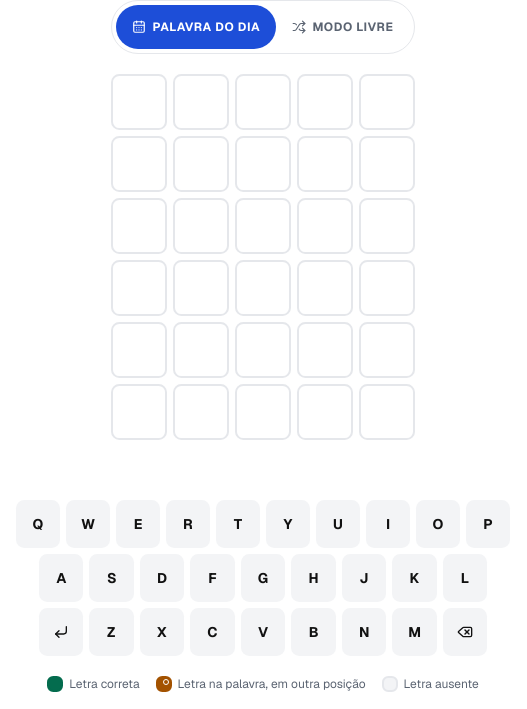
Test: TermoGame › rejects a guess that is not five letters
Click the button "A" at (61, 578), box [39, 554, 83, 602]
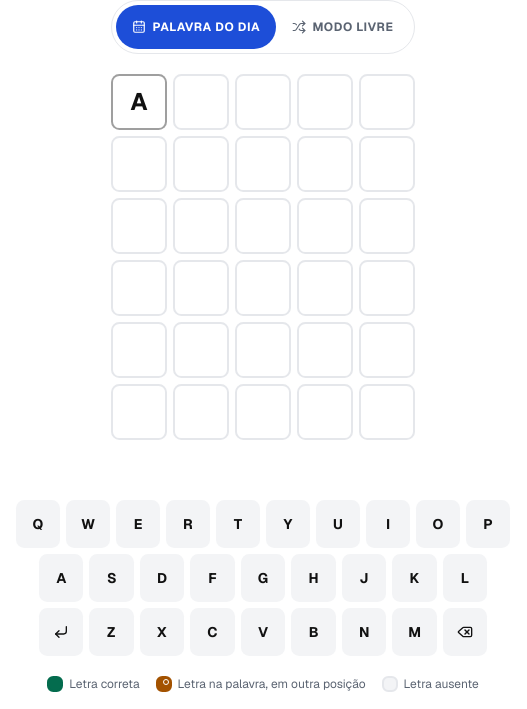
Click the button named "Enviar palavra" at (61, 632), box [39, 608, 83, 656]
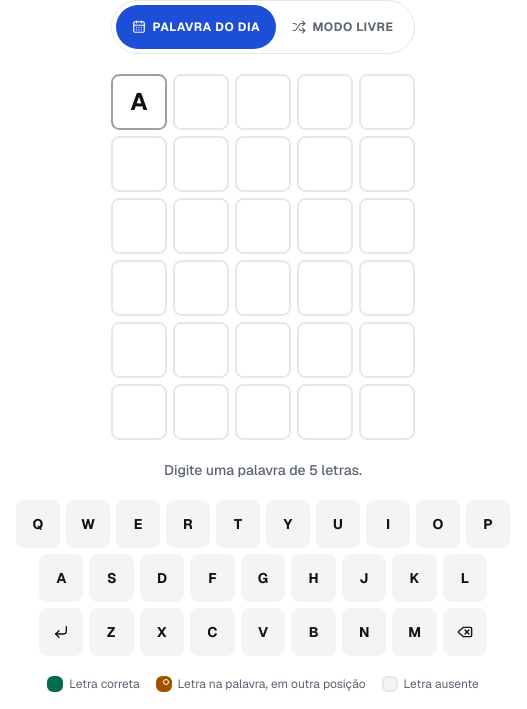
Expected: the text "Digite uma palavra de 5 letras." is shown, [164, 460, 362, 480]
